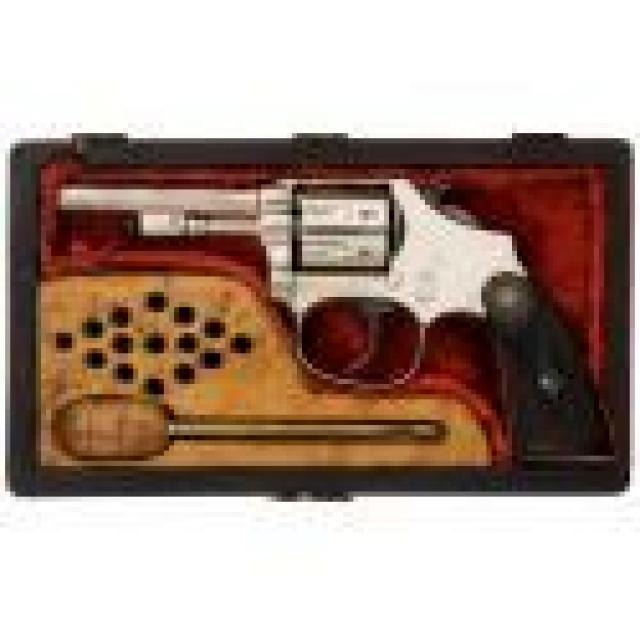revolver: (47, 162, 612, 469)
